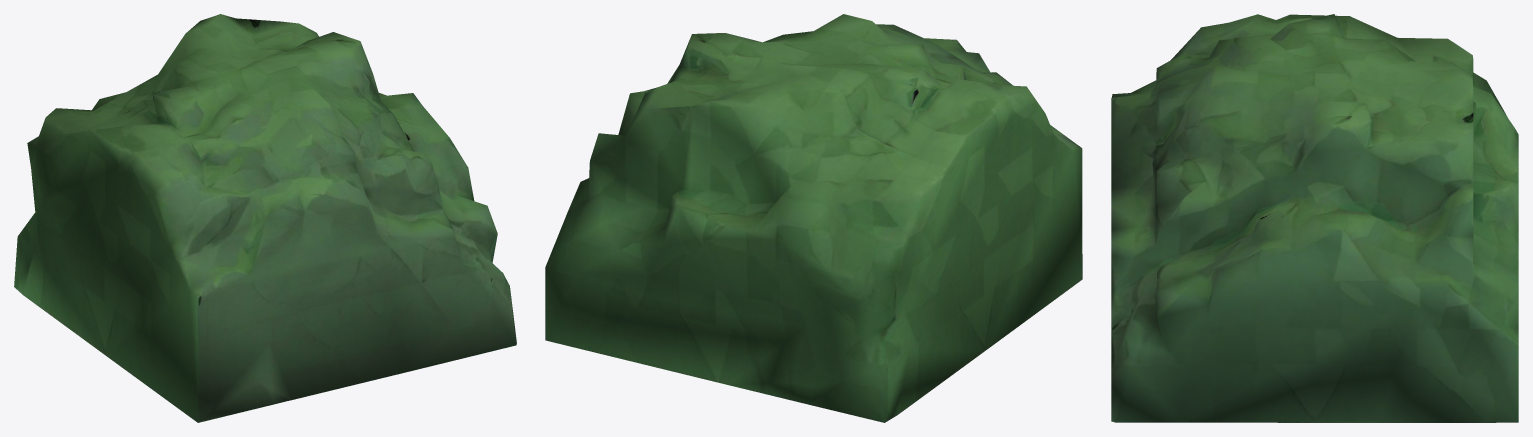
Rendered from Polygonal_Green_Bush_0727055818_texture.fbx.
3 renders of one model, left to right at view 1: azimuth 30°, elevation 25°; view 2: azimuth 150°, elevation 25°; view 3: azimuth 270°, elevation 25°, orthographic. The views are drawn at different scales.
Visible parts, largest first — view 1: Mesh1; view 2: Mesh1; view 3: Mesh1.
Part boxes in pixels (x1,y1,x2,y2): Mesh1: (14, 14, 516, 422); Mesh1: (545, 14, 1082, 422); Mesh1: (1111, 14, 1518, 422).
Bounding box in the file's own units: 200 × 146 × 200.
1 material, 1 textured.
